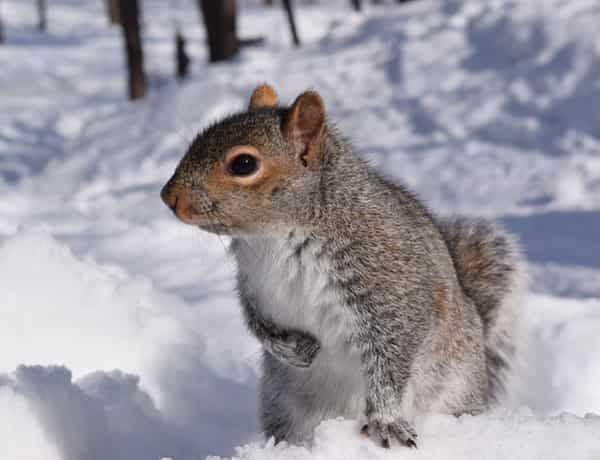Ardilla: (157, 76, 522, 457)
